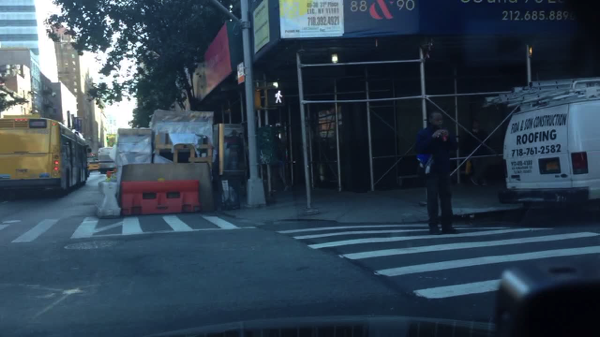bus: (0, 113, 93, 204), (97, 146, 117, 174)
car: (478, 75, 598, 219), (88, 160, 100, 176)
person: (412, 110, 462, 235), (460, 118, 491, 188), (268, 132, 292, 196)
traffic light: (264, 89, 285, 107), (252, 90, 262, 109), (105, 135, 110, 143)
traffic sign: (235, 61, 246, 86)
